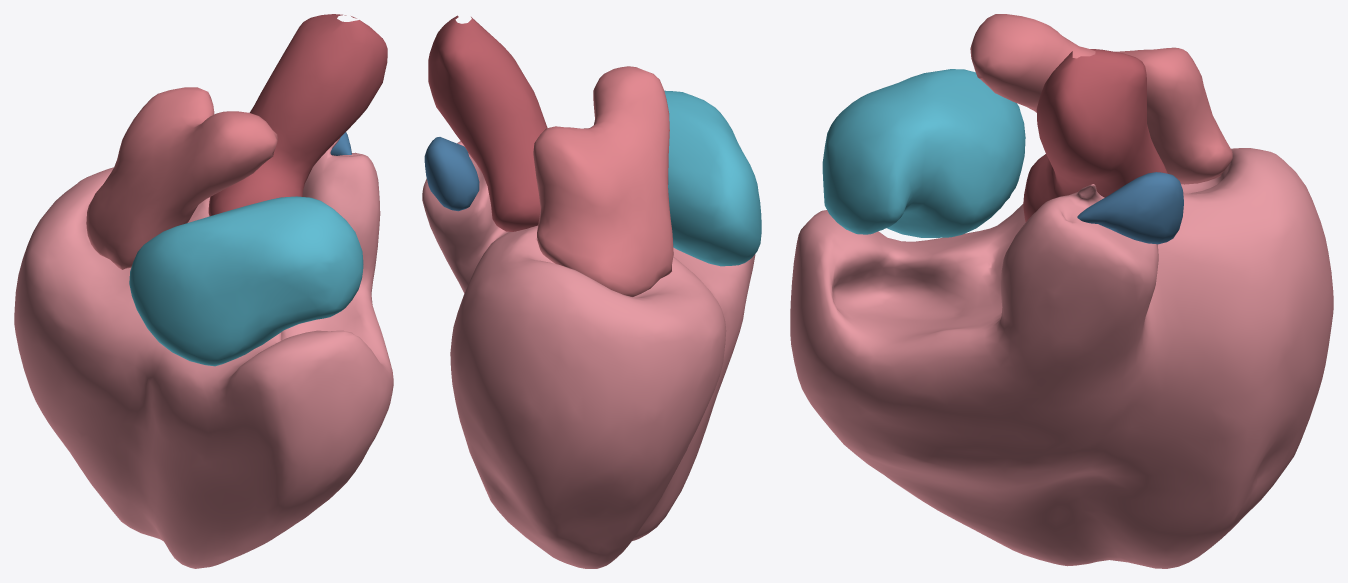
The model's file is frame_18.glb.
3 views of the same model, side by side, from view 1: azimuth 30°, elevation 25°; view 2: azimuth 150°, elevation 25°; view 3: azimuth 270°, elevation 25° (orthographic). The views are drawn at different scales.
Visible parts, largest first — view 1: Renderer Node; view 2: Renderer Node; view 3: Renderer Node.
Part boxes in pixels (x1,y1,x2,y2): Renderer Node: (14, 14, 393, 568); Renderer Node: (422, 15, 761, 568); Renderer Node: (790, 14, 1333, 568).
Bounding box in the file's own units: 107 × 163 × 132.
